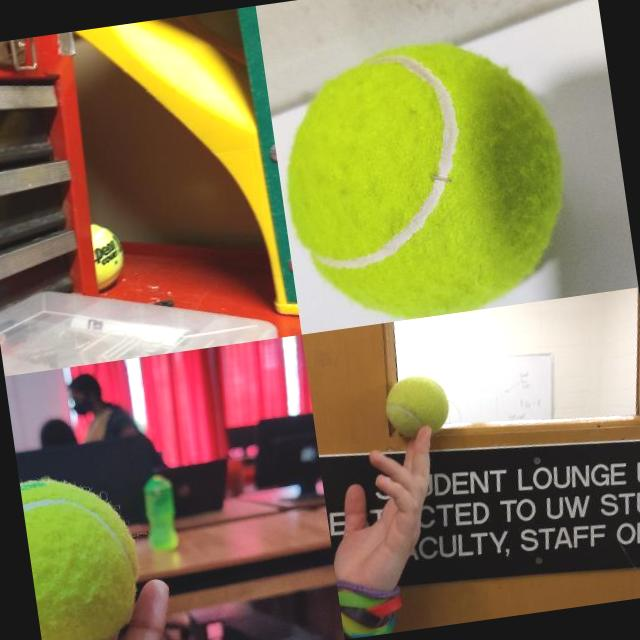Tennis Ball: (266, 24, 581, 333), (19, 466, 150, 640), (381, 370, 453, 442), (90, 219, 128, 291)
